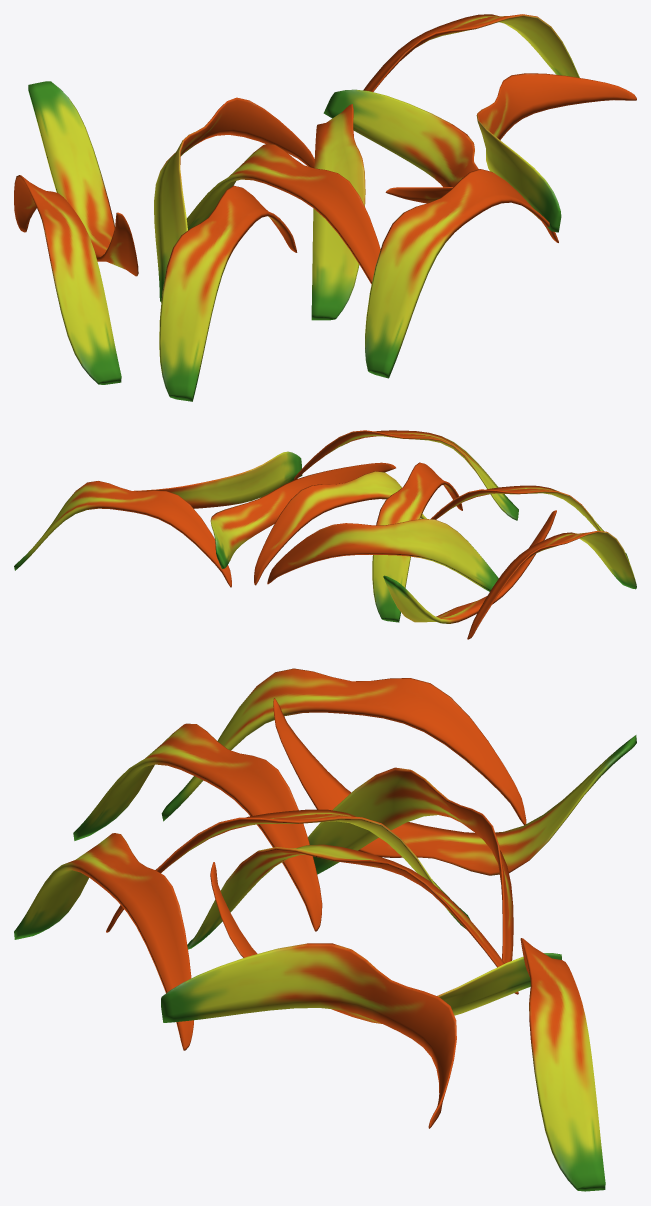
Rendered from FlorDeFogo_cortada.fbx.
The picture shows the model from 3 angles, top to bottom: view 1: azimuth 30°, elevation 25°; view 2: azimuth 150°, elevation 25°; view 3: azimuth 270°, elevation 25°; orthographic projection. The views are drawn at different scales.
Visible parts, largest first — view 1: FlorDeFogo_cortado; view 2: FlorDeFogo_cortado; view 3: FlorDeFogo_cortado.
Boxes of the visible parts, <box> form: FlorDeFogo_cortado: <box>14,14,636,401</box>; FlorDeFogo_cortado: <box>14,430,636,639</box>; FlorDeFogo_cortado: <box>14,668,636,1191</box>.
Size of the model in its own units: 363 by 65.1 by 245.
Materials: 1 (1 with a texture image).
